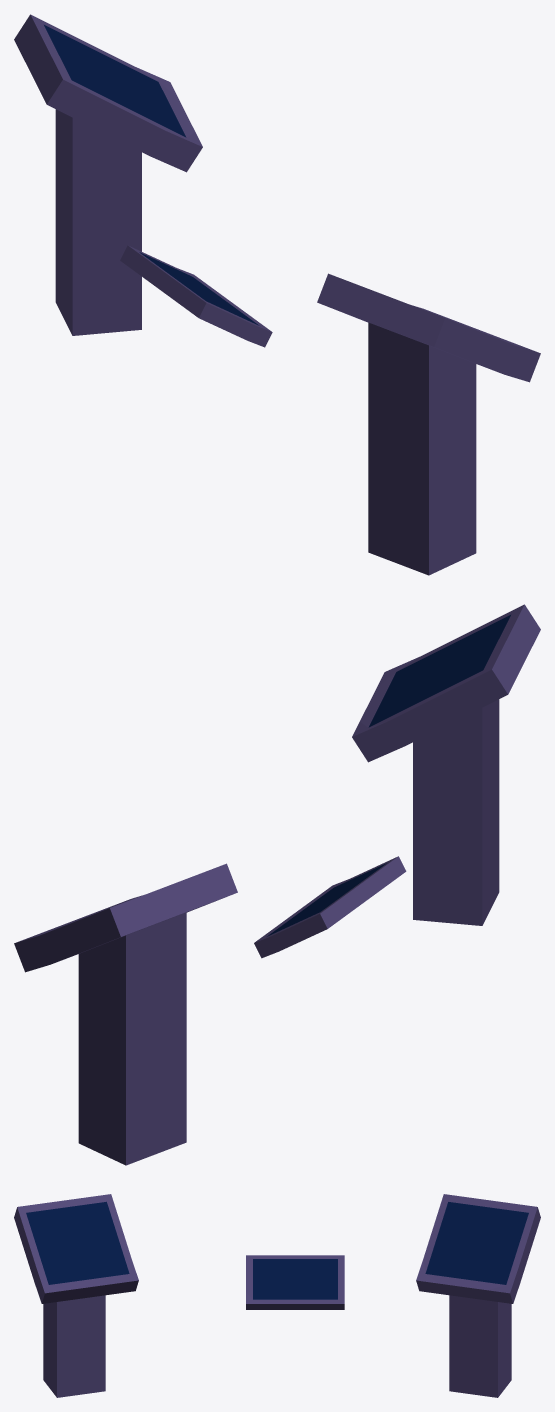
The model's file is shop_meny_stomp_computer2.glb.
The picture shows the model from 3 angles, top to bottom: view 1: azimuth 30°, elevation 25°; view 2: azimuth 150°, elevation 25°; view 3: azimuth 270°, elevation 25°; orthographic projection. The views are drawn at different scales.
Visible parts, largest first — view 1: Cube.004; view 2: Cube.004; view 3: Cube.004.
Part boxes in pixels (x1,y1,x2,y2): Cube.004: [14, 14, 540, 575]; Cube.004: [14, 604, 540, 1165]; Cube.004: [14, 1194, 540, 1397].
Bounding box in the file's own units: 3.04 × 4.37 × 12.15.
